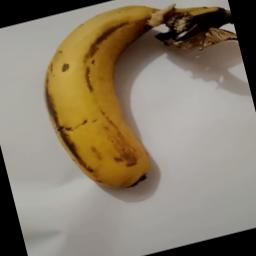Banana Unripe: (23, 0, 256, 211)
